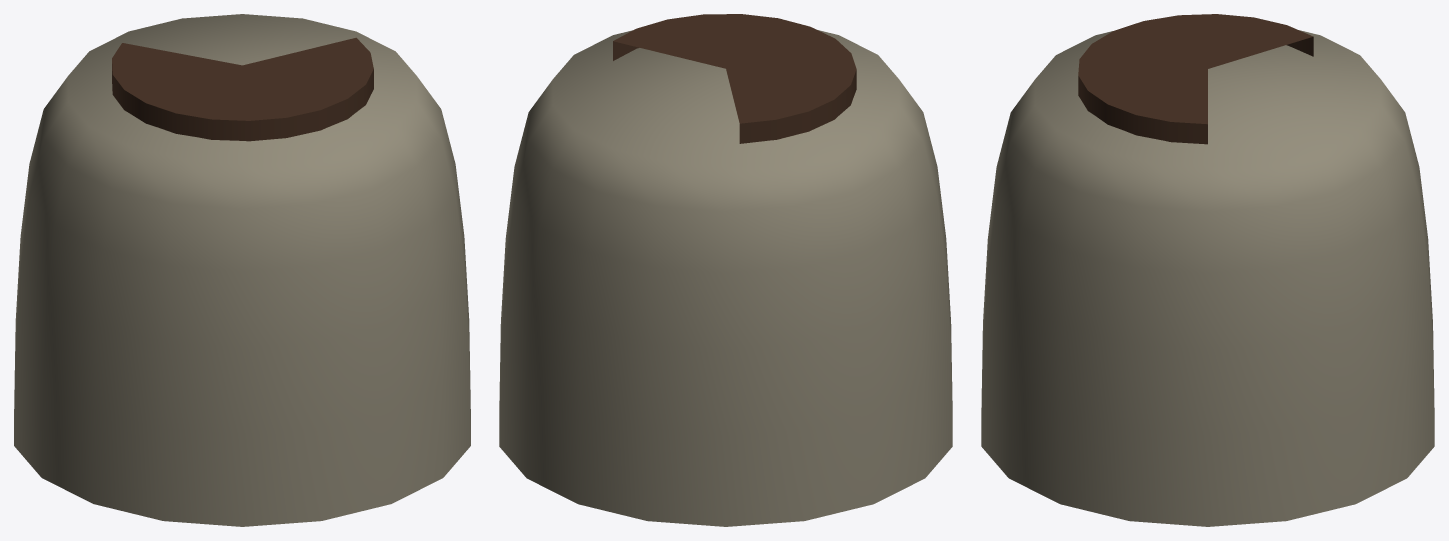
The model's file is sage_robe.obj.
The picture shows the model from 3 angles, left to right: view 1: azimuth 30°, elevation 25°; view 2: azimuth 150°, elevation 25°; view 3: azimuth 270°, elevation 25°; orthographic projection.
Visible parts, largest first — view 1: sage_robe; view 2: sage_robe; view 3: sage_robe.
Boxes of the visible parts, x1,y1,x2,y2 form: sage_robe: (14, 14, 470, 526); sage_robe: (499, 14, 952, 526); sage_robe: (981, 14, 1434, 526).
Bounding box in the file's own units: 1.48 × 1.28 × 1.46.
